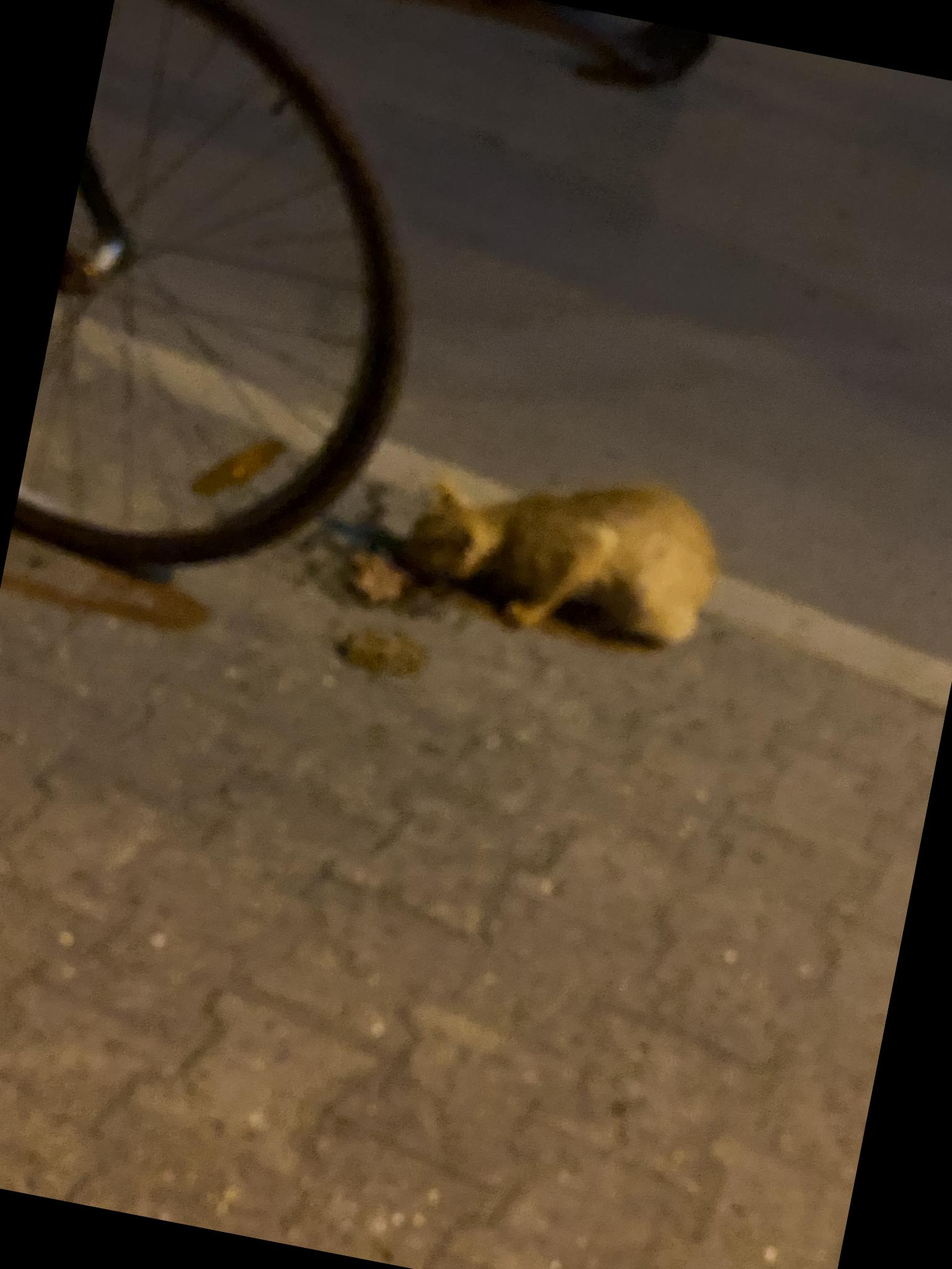macka: (393, 439, 733, 664)
